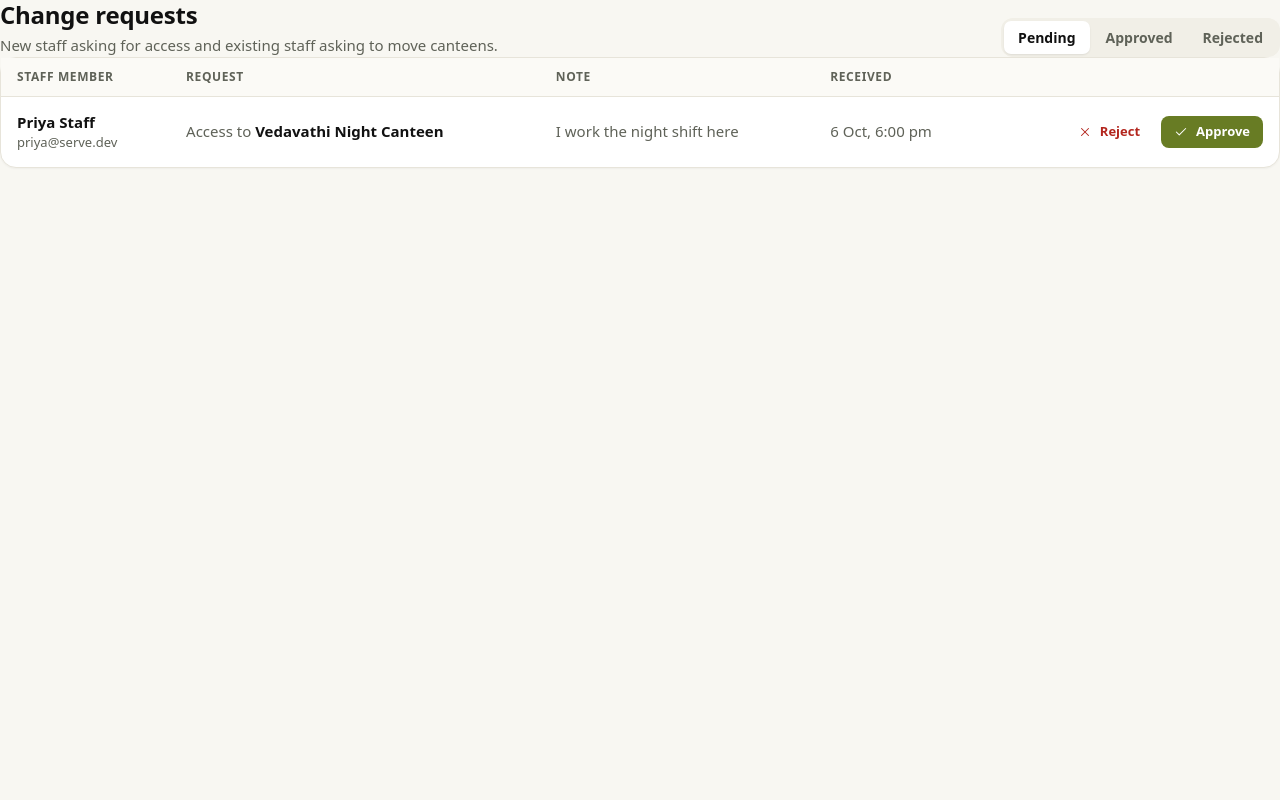
change requests › approves with a note and removes the request from the pending list
The image size is (1280, 800).
Click the button with aria-label "Approve Priya Staff" at (1212, 132), box [1161,116,1263,148]
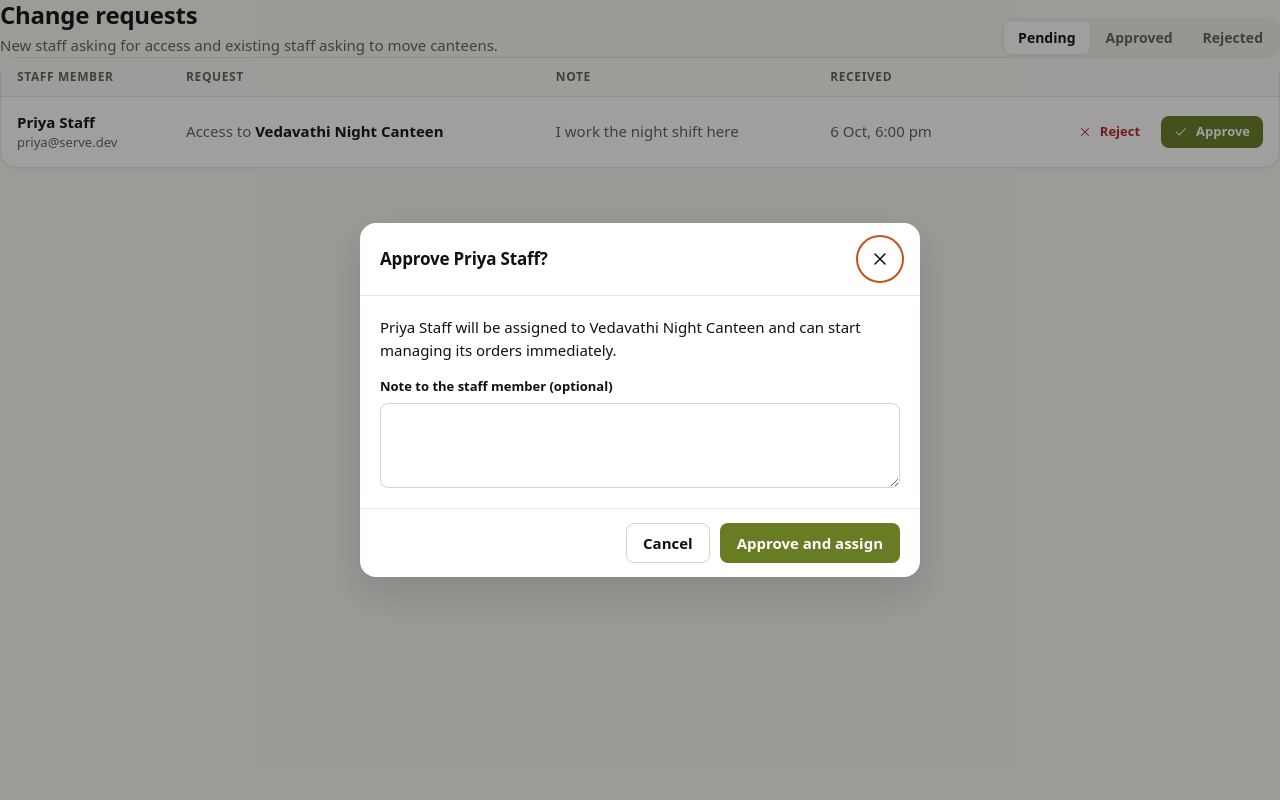
Type "Welcome aboard" into the text box labelled "Note to the staff member (optional)" at (640, 445), box [380,402,900,488]
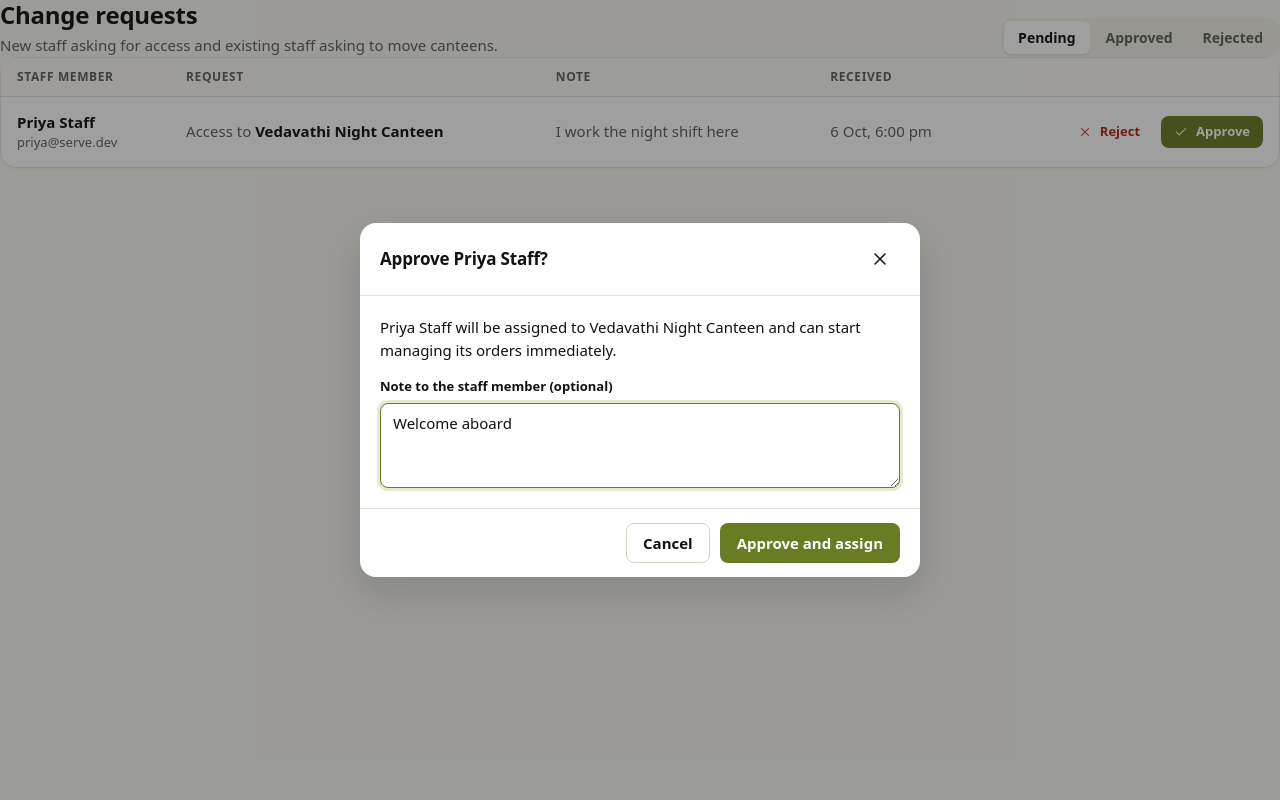
Click the button "Approve and assign" at (810, 543), box [720,523,900,563]
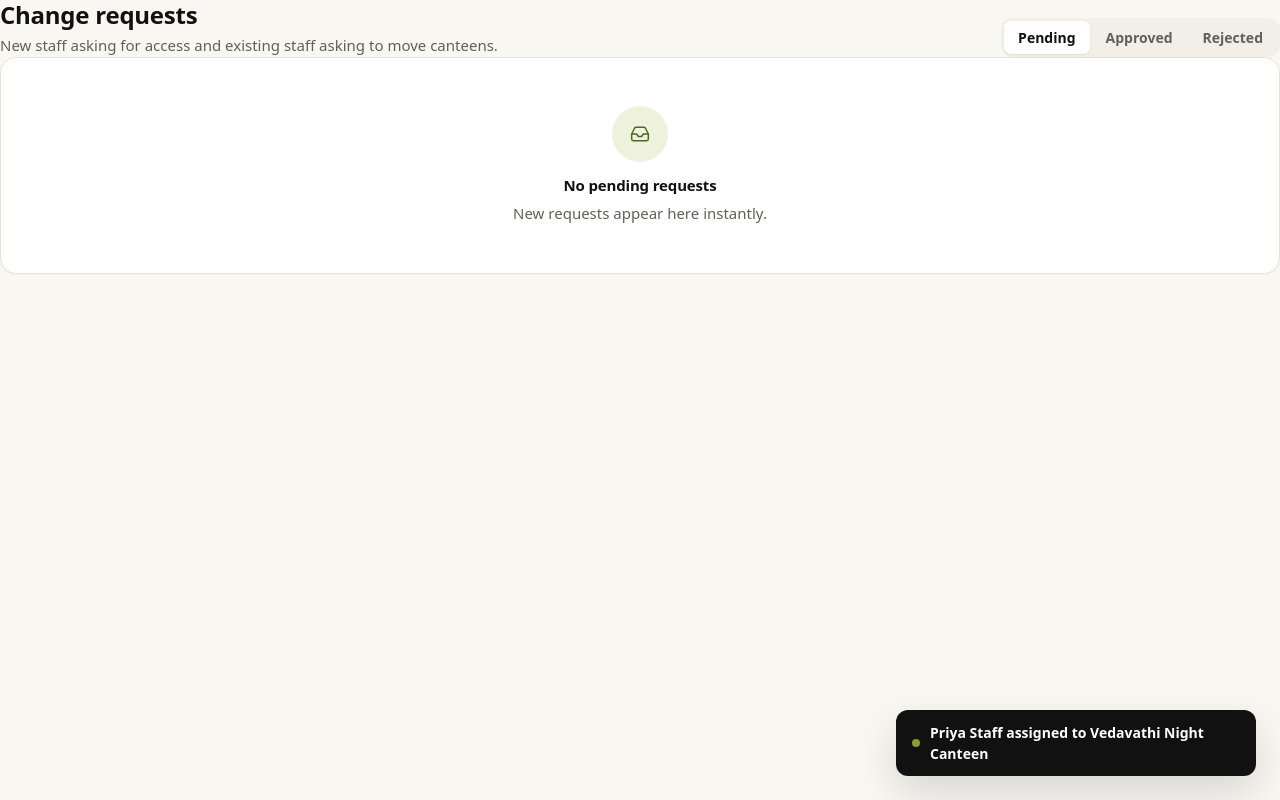
Expected: the text "Priya Staff assigned to Vedavathi Night Canteen" is shown, [896,710,1256,776]
Expected: the heading "No pending requests" is shown, [564,176,717,194]
